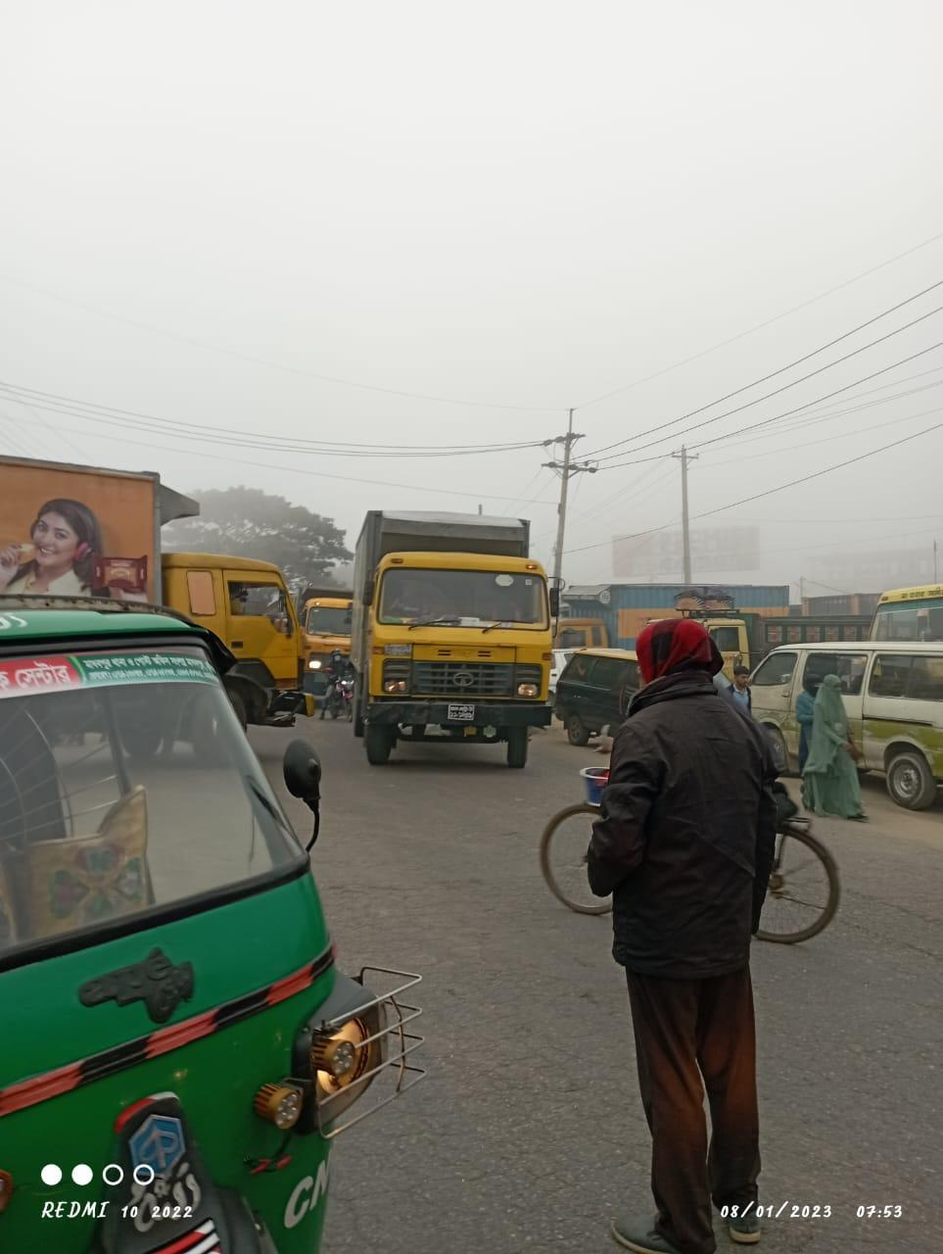Car: (740, 630, 942, 808), (556, 639, 652, 746)
Truck: (4, 435, 318, 716), (357, 503, 556, 787)
